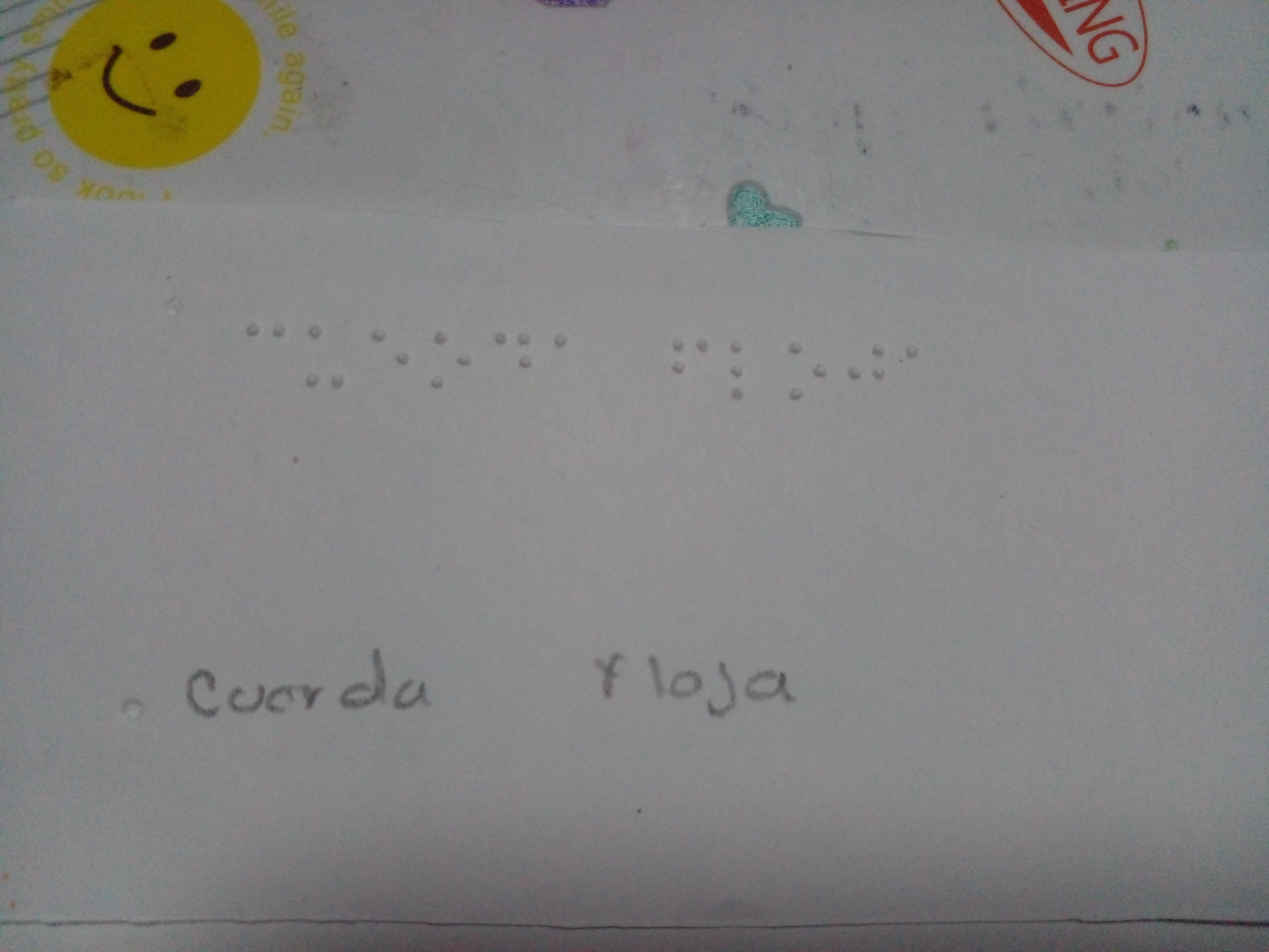a: (547, 310, 579, 381), (895, 332, 926, 383)
c: (229, 302, 291, 375)
d: (483, 315, 542, 380)
e: (364, 327, 414, 387)
f: (660, 325, 714, 383)
j: (844, 333, 895, 403)
l: (720, 330, 757, 415)
o: (779, 336, 838, 418)
r: (429, 318, 479, 398)
u: (297, 324, 352, 403)
